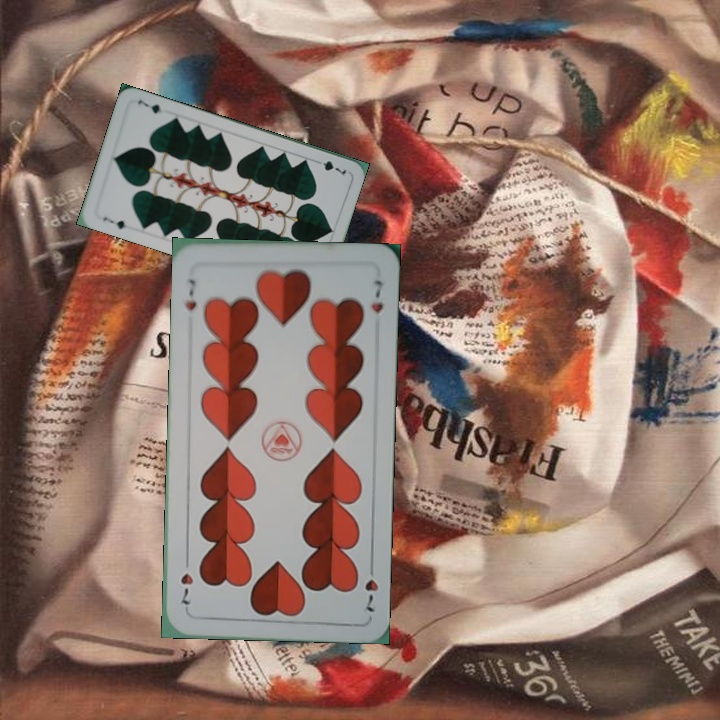G7: (310, 156, 349, 179), (99, 213, 128, 232)
H7: (360, 558, 380, 615), (181, 275, 199, 313)
